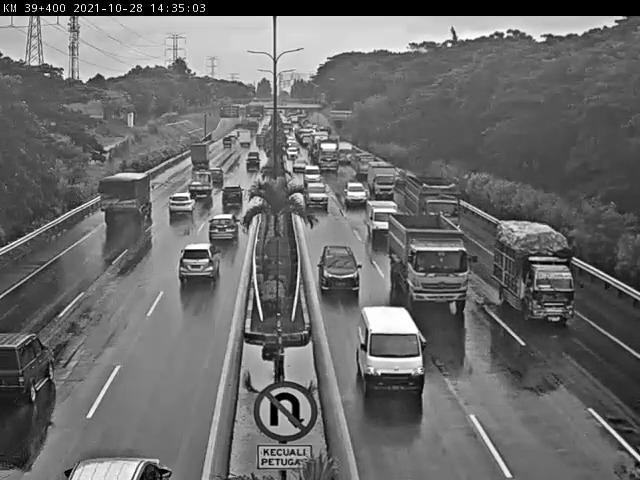big truck: (395, 230, 479, 318), (94, 171, 156, 232), (402, 177, 458, 226)
car: (348, 287, 420, 380), (0, 325, 46, 415), (311, 233, 368, 292), (168, 244, 220, 300), (361, 197, 403, 237), (203, 217, 237, 252), (156, 194, 197, 223), (219, 190, 256, 215), (306, 181, 330, 211), (345, 177, 366, 205), (209, 170, 228, 185)
small truck: (494, 217, 578, 325), (363, 160, 393, 196), (188, 142, 215, 175), (189, 175, 214, 200)
